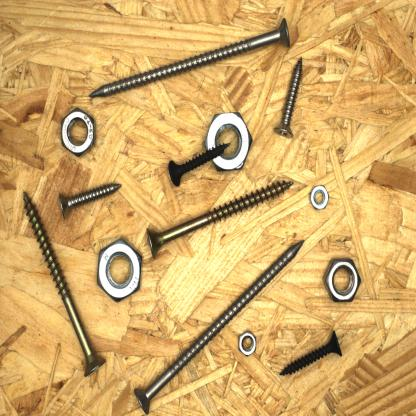screw: (131, 235, 308, 416), (87, 15, 294, 102), (21, 187, 110, 382), (142, 178, 296, 262), (275, 326, 346, 381), (166, 140, 233, 189), (271, 55, 306, 140), (55, 179, 124, 222)
